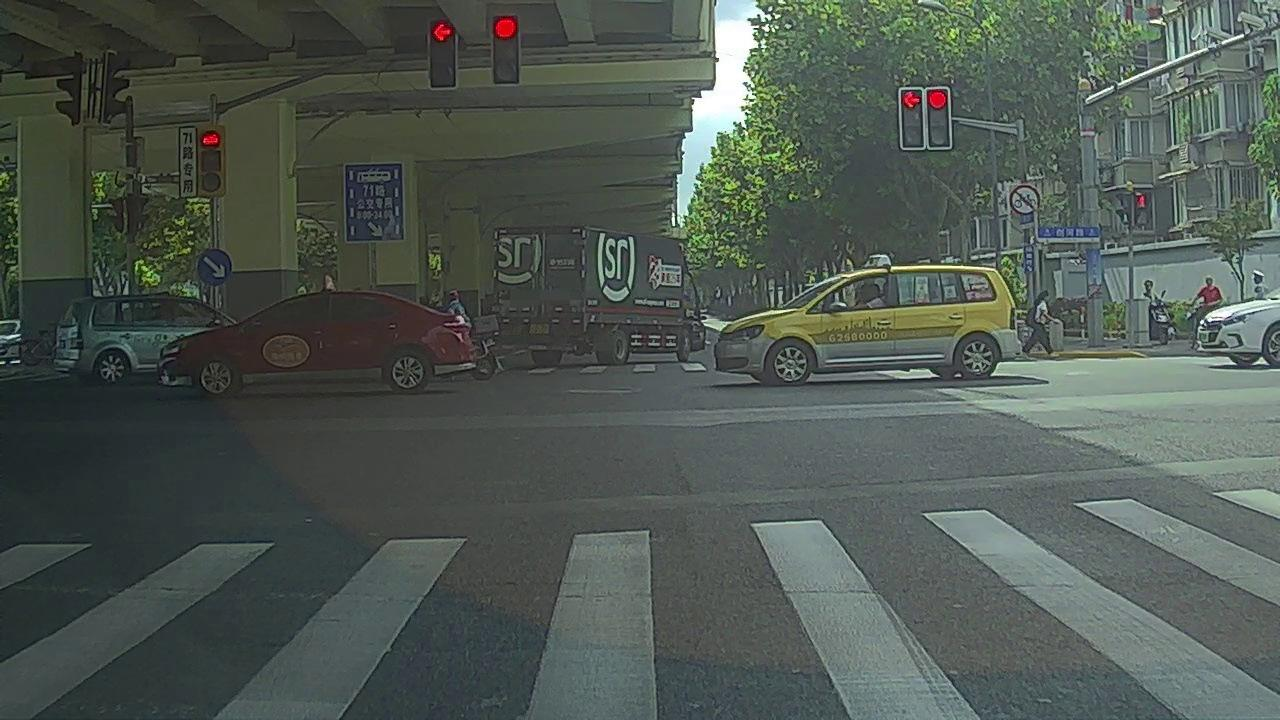traffic_light: (428, 19, 457, 86), (494, 14, 520, 85), (927, 88, 951, 148), (901, 89, 923, 148)
